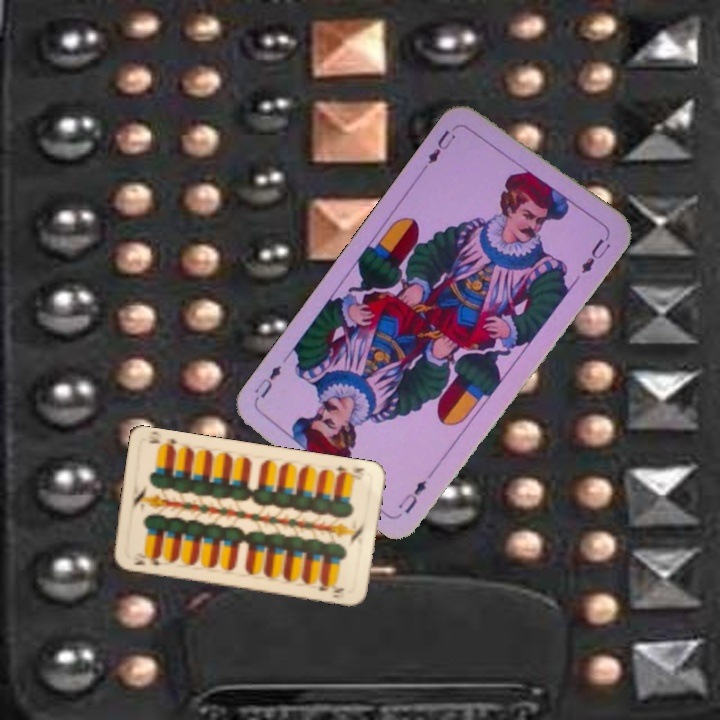E10: (332, 461, 367, 480), (129, 553, 164, 568)
EU: (419, 126, 458, 173), (394, 476, 430, 517)
